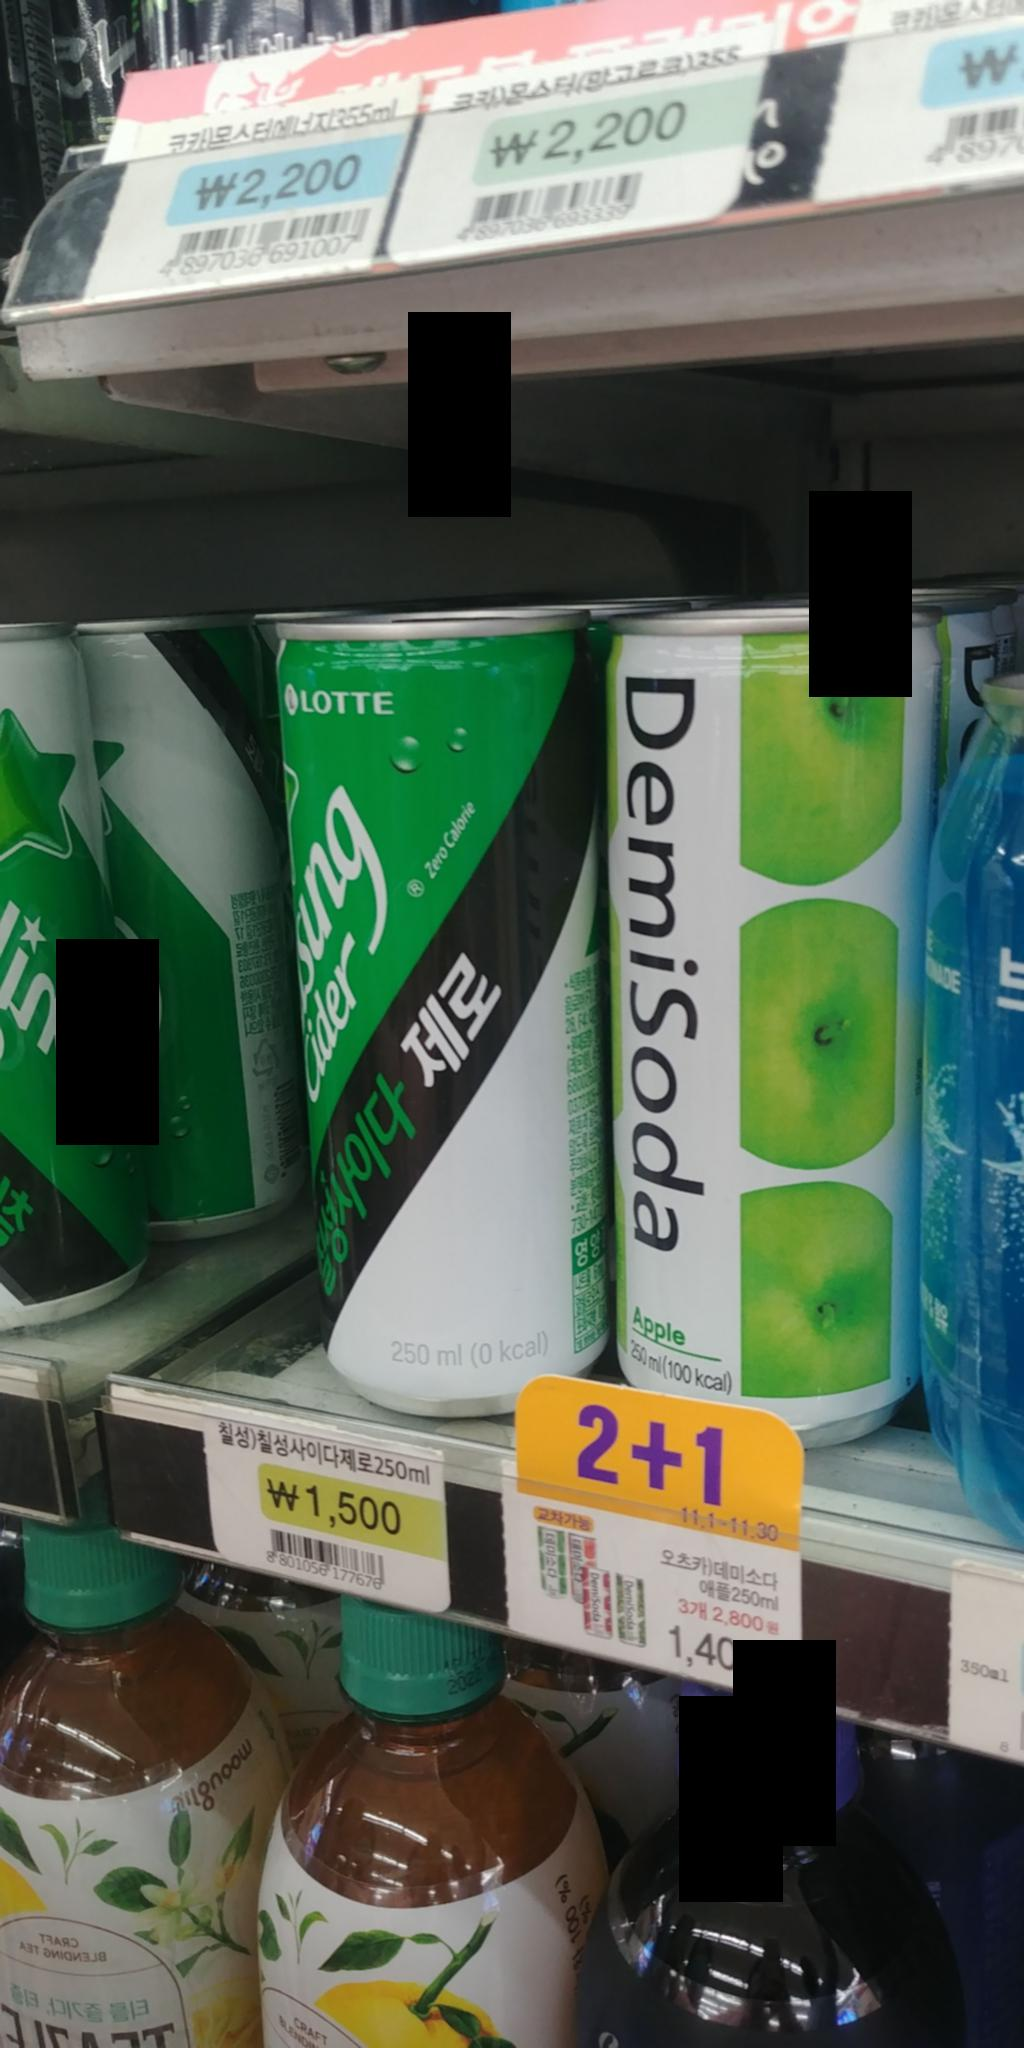chilsungcider_zero: (256, 609, 619, 1420)
